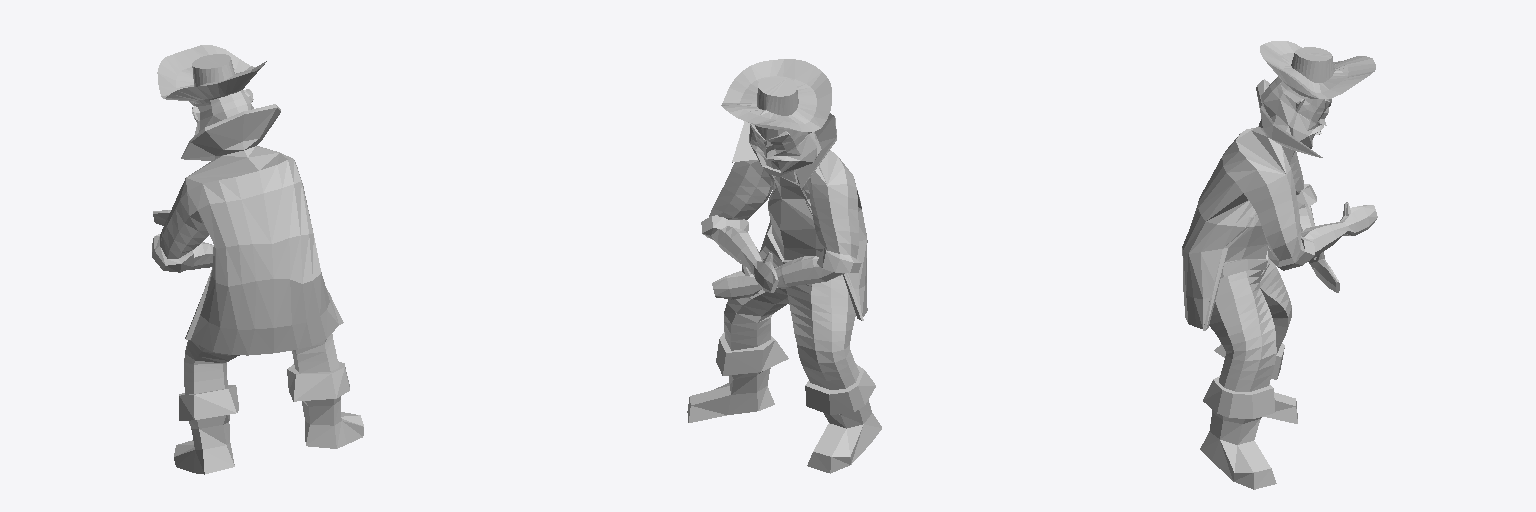
Rendered from pirata_000238.obj.
The picture shows the model from 3 angles: view 1: azimuth 30°, elevation 25°; view 2: azimuth 150°, elevation 25°; view 3: azimuth 270°, elevation 25°; orthographic projection.
Parts seen in each view (by area): view 1: Pirata_PirataH; view 2: Pirata_PirataH; view 3: Pirata_PirataH.
Boxes of the visible parts, x1=… form: Pirata_PirataH: x1=152, y1=45, x2=363, y2=474; Pirata_PirataH: x1=687, y1=59, x2=881, y2=473; Pirata_PirataH: x1=1182, y1=41, x2=1377, y2=489.
Bounding box in the file's own units: 4.61 × 9.14 × 4.18.